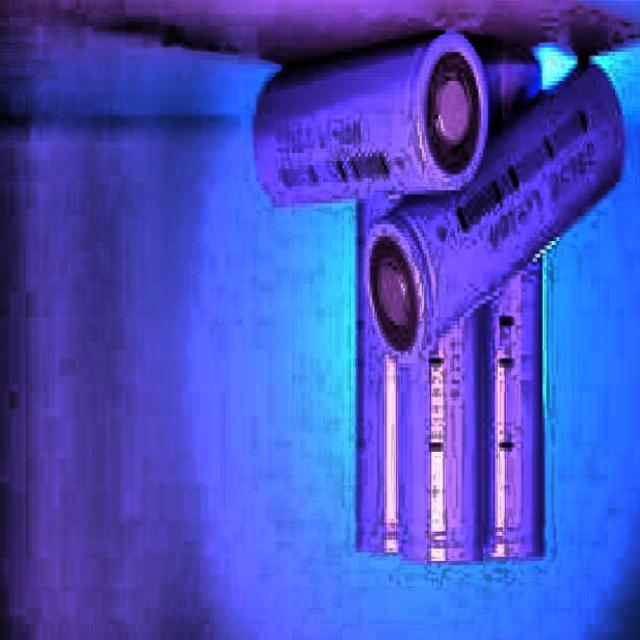Non-Valuable Waste - Batteries: (358, 68, 622, 363), (257, 35, 533, 207)
